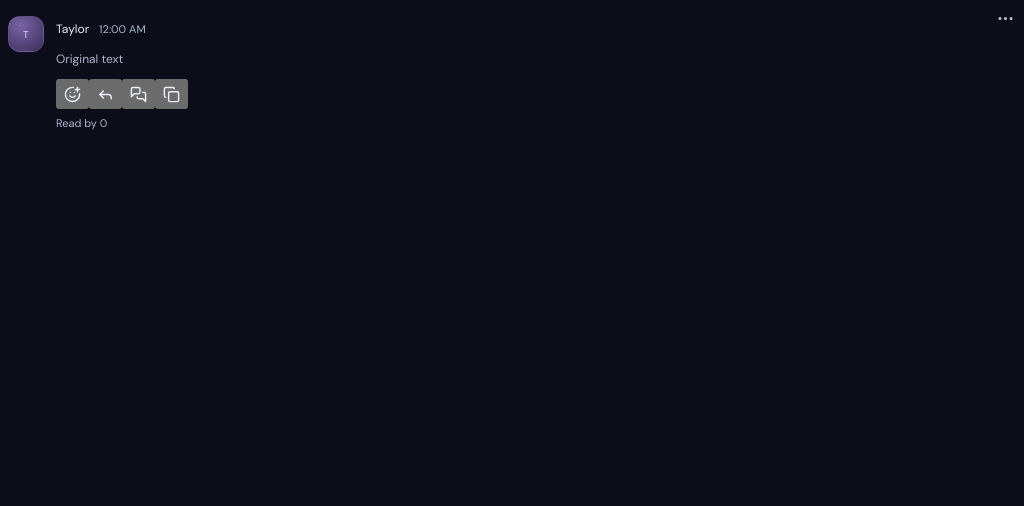
it: requires a moderator deletion confirmation and submits pin changes to the server
The width and height of the screenshot is (1024, 506).
What coordinates should you click on to do the following:
click the heading named "Message actions"
I would click on:
 (1005, 18)
Its box is [996,8,1014,28].
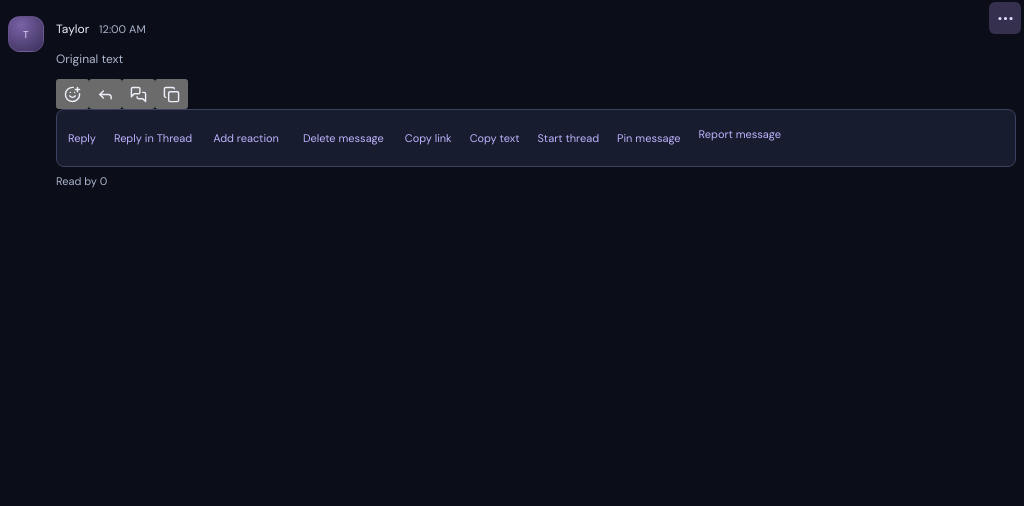
What coordinates should you click on to do the following:
click the heading "Delete message"
I would click on:
 (343, 138)
Its box is [303,130,384,144].
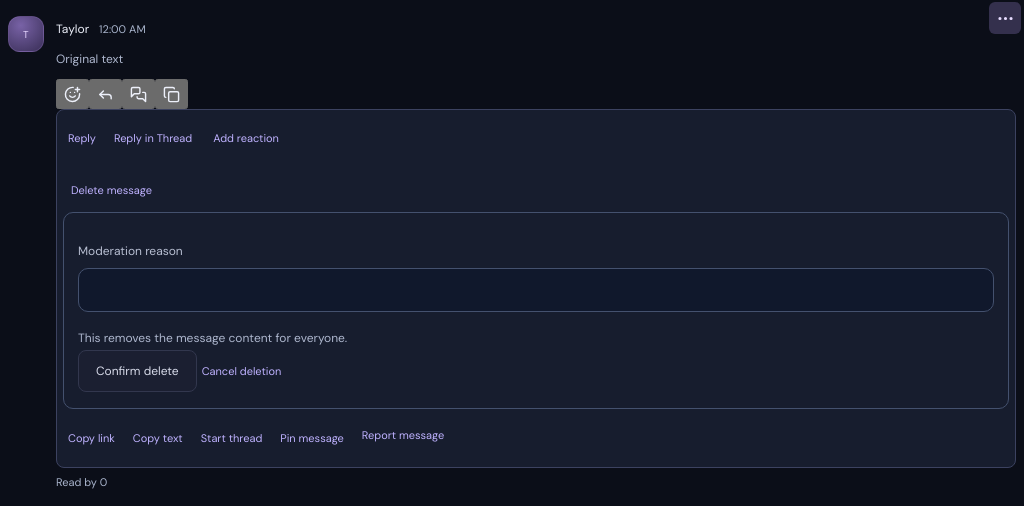
What coordinates should you click on to do the following:
click the button "Cancel deletion"
I would click on:
 (242, 372)
Its box is [197,350,286,394].
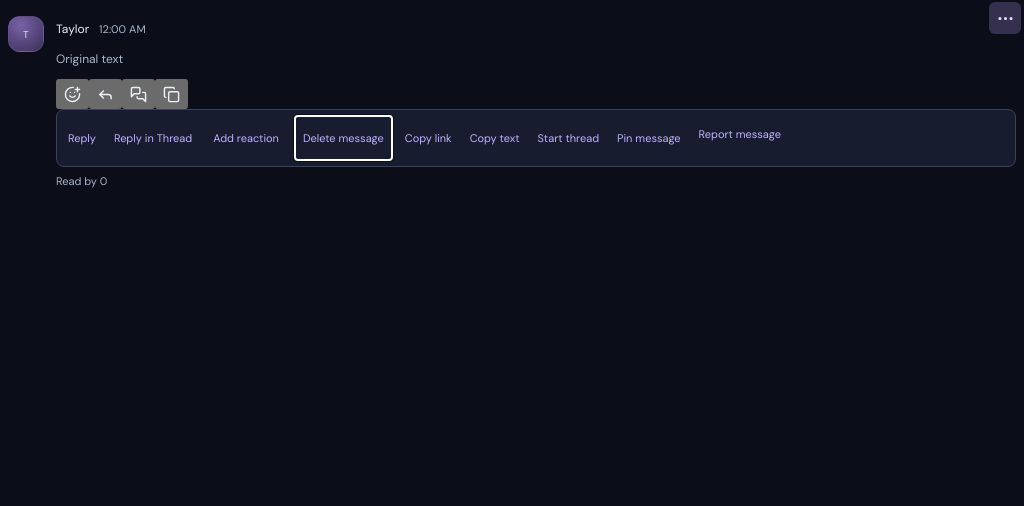
What coordinates should you click on to do the following:
click the button "Pin message"
I would click on:
 (649, 138)
Its box is [612,116,686,160].
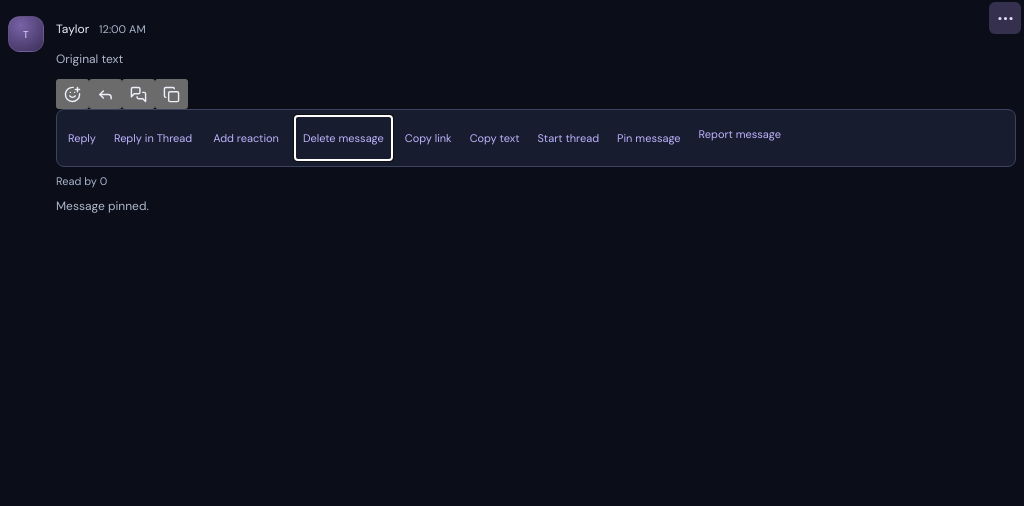
Expected: the text "Message pinned." is shown, [56,198,149,214]
